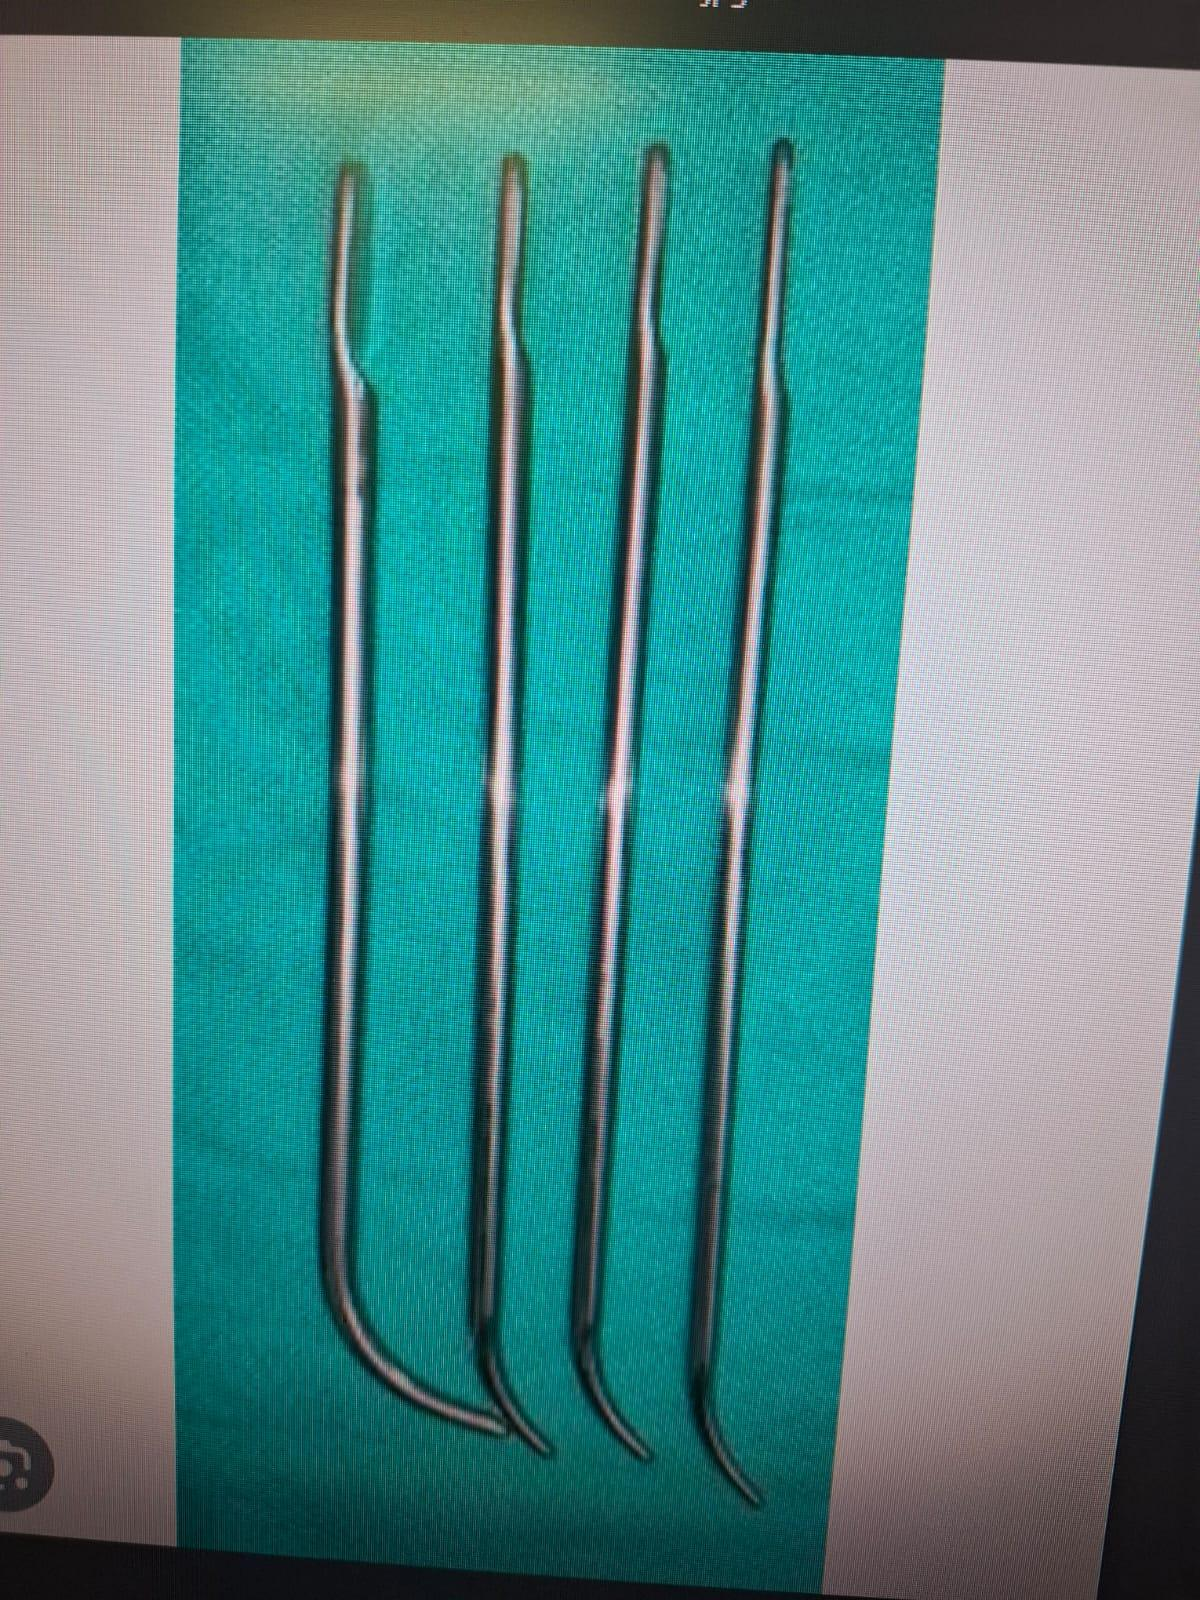Urethral Dilators: (300, 127, 511, 1470), (557, 130, 740, 1475), (677, 127, 821, 1534), (450, 120, 597, 1485)
